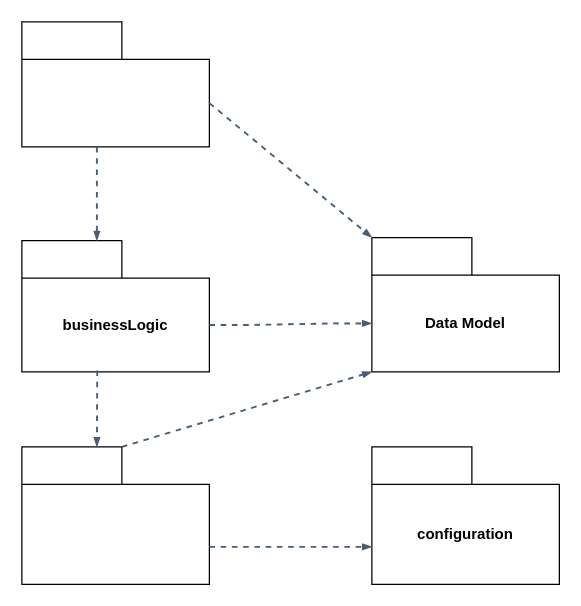
Some shapes in this 581 by 606 pixel diagram are drawn without their labels. Each missing label, with the centre of its shape:
controllers (userInterface): the point at 115,84
dataAccess: the point at 115,515
